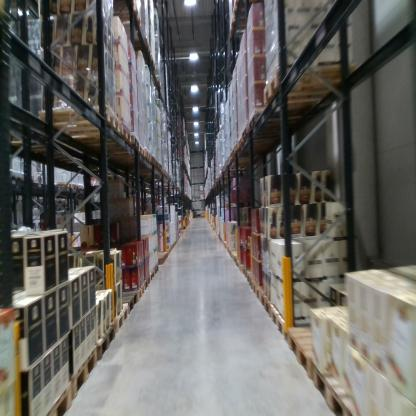pallet: (261, 62, 355, 110), (286, 323, 349, 382), (38, 101, 119, 136), (311, 362, 356, 415), (242, 119, 310, 141), (70, 121, 132, 145), (250, 108, 309, 132), (41, 379, 77, 416), (73, 345, 97, 400), (268, 299, 292, 344), (81, 132, 140, 150), (101, 143, 151, 164), (111, 1, 143, 28), (95, 325, 116, 363), (117, 290, 137, 317), (112, 302, 129, 332), (231, 1, 264, 14), (140, 53, 160, 74), (130, 37, 151, 57), (260, 289, 271, 325), (252, 278, 262, 304), (134, 282, 146, 301), (143, 274, 151, 292), (154, 250, 168, 260), (244, 266, 253, 280), (154, 255, 166, 265), (247, 273, 254, 290), (148, 268, 155, 281), (153, 262, 160, 275)
